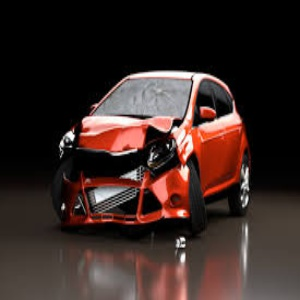bonnet: (77, 110, 158, 148)
